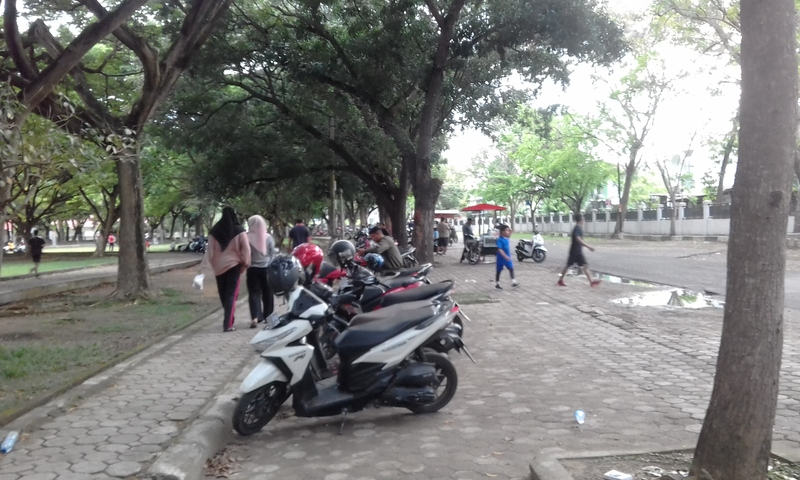person: (205, 201, 250, 334), (240, 212, 279, 331), (556, 210, 603, 289), (490, 223, 522, 292), (26, 228, 46, 278), (436, 214, 453, 257)
